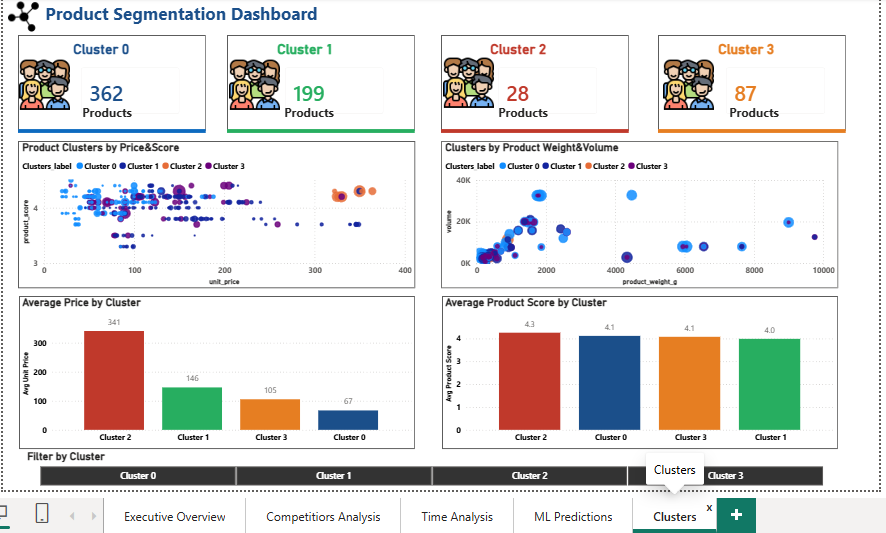

The dashboard page shown, as its layout file describes it:
{"tool":"powerbi","page":{"name":"Clusters","canvas":[1366,768],"ordinal":4},"visuals":[{"type":"textbox","box":[9.4,0,1042.7,57.8],"z":0},{"type":"shape","box":[23.4,57.8,293.5,149.9],"z":1000},{"type":"shape","box":[349.7,57.8,293.5,149.9],"z":2000},{"type":"shape","box":[683.7,57.8,293.5,149.9],"z":3000},{"type":"shape","box":[1022.4,57.8,293.5,149.9],"z":4000},{"type":"shape","box":[23.4,132.7,293.5,149.9],"z":5000},{"type":"shape","box":[349.7,132.7,293.5,149.9],"z":6000},{"type":"shape","box":[683.7,132.7,293.5,149.9],"z":7000},{"type":"shape","box":[1022.4,132.7,293.5,149.9],"z":8000},{"type":"cardVisual","title":"Cluster 0","fields":{"Data":["ecommerce_final (1).Cluster 0 Count"]},"box":[104.6,67.1,188.9,131.1],"z":9000},{"type":"textbox","box":[118.6,160.8,123.3,46.8],"z":10000},{"type":"cardVisual","title":"Cluster 1","fields":{"Data":["ecommerce_final (1).Cluster 1 Count"]},"box":[423,67.1,188.9,131.1],"z":11000},{"type":"cardVisual","title":"Cluster 2","fields":{"Data":["ecommerce_final (1).Cluster 2 Count"]},"box":[755,67.5,189.7,131.3],"z":12000},{"type":"textbox","box":[768,160.8,123.3,46.8],"z":13000},{"type":"cardVisual","title":"Cluster 3","fields":{"Data":["ecommerce_final (1).Cluster 3 Count"]},"box":[1110.7,67.5,189.7,131.3],"z":14000},{"type":"textbox","box":[434,160.8,123.3,46.8],"z":15000},{"type":"textbox","box":[1128.6,160.8,123.3,46.8],"z":16000},{"type":"shape","box":[23.7,222.5,620.1,229.8],"z":17000},{"type":"shape","box":[25.5,465.1,618.3,238.9],"z":18000},{"type":"shape","box":[683.9,222.5,620.1,229.8],"z":19000},{"type":"shape","box":[685.7,465.1,618.3,238.9],"z":20000},{"type":"scatterChart","title":"Product Clusters by Price&Score","fields":{"X":["ecommerce_final (1).unit_price"],"Y":["ecommerce_final (1).product_score"],"Size":["Sum(ecommerce_final (1).total_price)"],"Series":["ecommerce_final (1).Clusters_label"]},"box":[25.5,222.5,618.3,229.8],"z":21000},{"type":"scatterChart","title":"Clusters by Product Weight&Volume","fields":{"Size":["CountNonNull(ecommerce_final (1).total_price)"],"X":["ecommerce_final (1).product_weight_g"],"Y":["ecommerce_final (1).volume"],"Series":["ecommerce_final (1).Clusters_label"]},"box":[685.7,222.5,618.3,229.8],"z":22000},{"type":"columnChart","title":"Average Price by Cluster","fields":{"Y":["ecommerce_final (1).Avg Unit Price"],"Category":["ecommerce_final (1).Clusters_label"]},"box":[25.5,465.1,618.3,238.9],"z":23000},{"type":"columnChart","title":"Average Product Score by Cluster","fields":{"Category":["ecommerce_final (1).Clusters_label"],"Y":["ecommerce_final (1).Avg Product Score"]},"box":[685.7,465.1,618.3,238.9],"z":24000},{"type":"slicer","title":"Filter by Cluster","fields":{"Values":["ecommerce_final (1).Clusters_label"]},"box":[32.8,705.8,1271.2,62],"z":25000},{"type":"image","box":[7.8,0,48.4,57.8],"z":25001},{"type":"image","box":[25,85.9,81.2,98.3],"z":25002},{"type":"image","box":[352.8,85.9,81.2,98.3],"z":25003},{"type":"image","box":[686.8,82.7,81.2,98.3],"z":25004},{"type":"image","box":[1030.2,85.9,81.2,98.3],"z":25005}]}

Visuals, with their boxes in screenshot pixels (x1, y1, x2, y2):
textbox: crop(8, 0, 675, 32)
shape: crop(17, 32, 205, 128)
shape: crop(226, 32, 414, 128)
shape: crop(440, 32, 627, 128)
shape: crop(656, 32, 844, 128)
shape: crop(17, 80, 205, 176)
shape: crop(226, 80, 414, 176)
shape: crop(440, 80, 627, 176)
shape: crop(656, 80, 844, 176)
"Cluster 0" cardVisual: crop(69, 38, 190, 122)
textbox: crop(78, 98, 157, 128)
"Cluster 1" cardVisual: crop(273, 38, 394, 122)
"Cluster 2" cardVisual: crop(485, 39, 607, 123)
textbox: crop(494, 98, 572, 128)
"Cluster 3" cardVisual: crop(713, 39, 834, 123)
textbox: crop(280, 98, 359, 128)
textbox: crop(724, 98, 803, 128)
shape: crop(17, 138, 414, 285)
shape: crop(19, 293, 414, 446)
shape: crop(440, 138, 836, 285)
shape: crop(441, 293, 836, 446)
"Product Clusters by Price&Score" scatterChart: crop(19, 138, 414, 285)
"Clusters by Product Weight&Volume" scatterChart: crop(441, 138, 836, 285)
"Average Price by Cluster" columnChart: crop(19, 293, 414, 446)
"Average Product Score by Cluster" columnChart: crop(441, 293, 836, 446)
"Filter by Cluster" slicer: crop(23, 447, 836, 487)
image: crop(7, 0, 38, 32)
image: crop(18, 50, 70, 113)
image: crop(228, 50, 280, 113)
image: crop(442, 48, 494, 111)
image: crop(661, 50, 713, 113)
